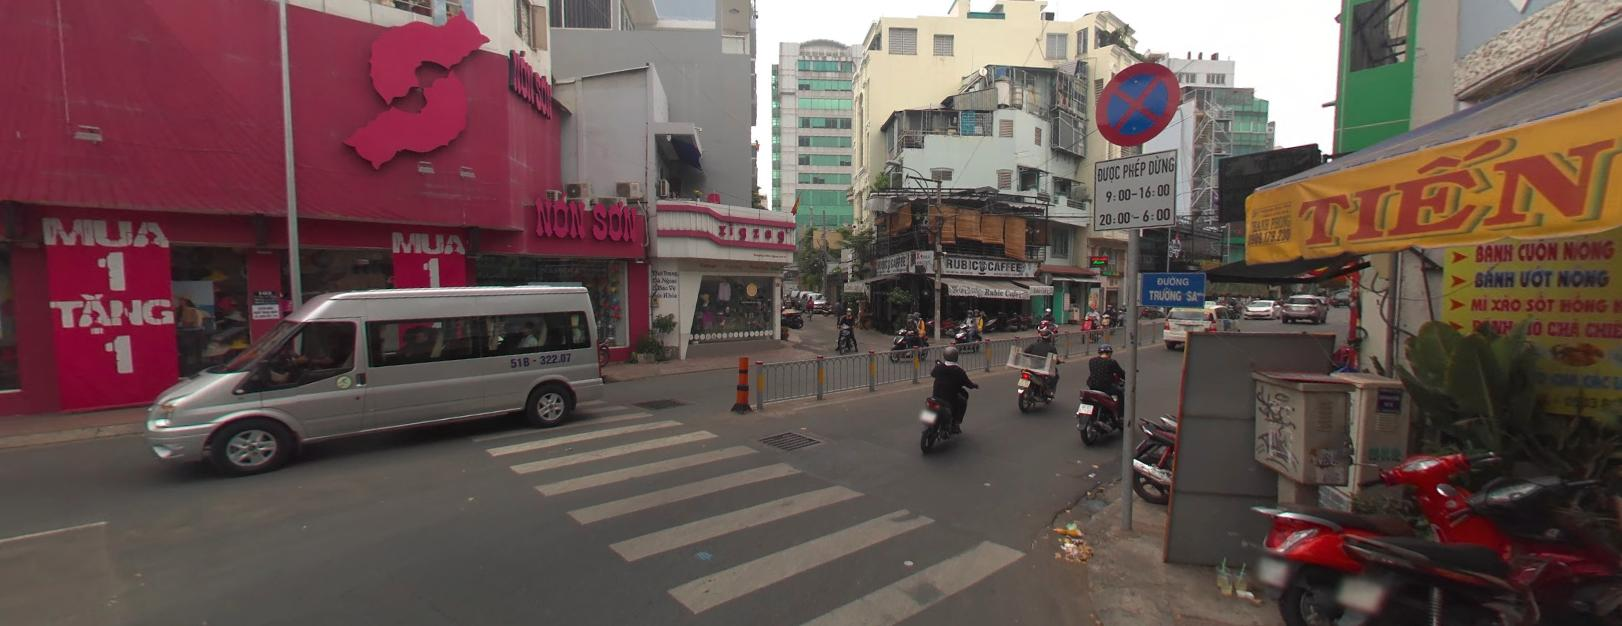Cam dung va do: (1092, 57, 1176, 148)
